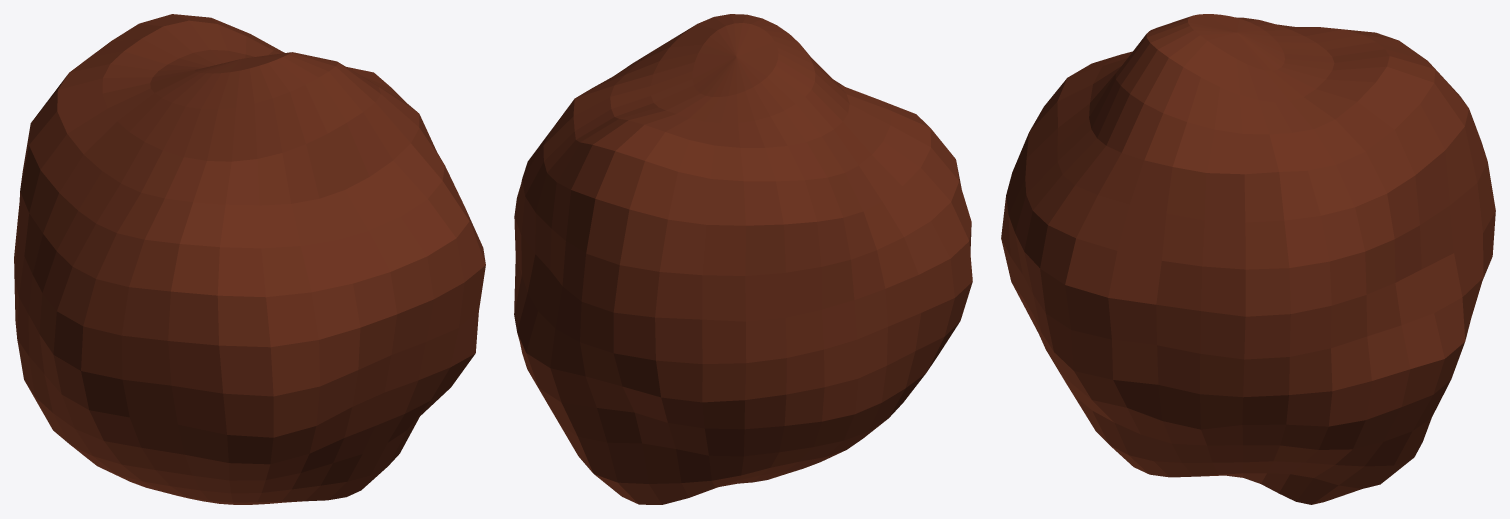
The model's file is aplanet.glb.
3 renders of one model, left to right at view 1: azimuth 30°, elevation 25°; view 2: azimuth 150°, elevation 25°; view 3: azimuth 270°, elevation 25°, orthographic. The views are drawn at different scales.
Visible parts, largest first — view 1: Sphere; view 2: Sphere; view 3: Sphere.
Part boxes in pixels (x1,y1,x2,y2): Sphere: [14, 14, 485, 504]; Sphere: [514, 14, 972, 504]; Sphere: [1001, 14, 1495, 504].
Size of the model in its own units: 17.88 by 18.73 by 18.27.
